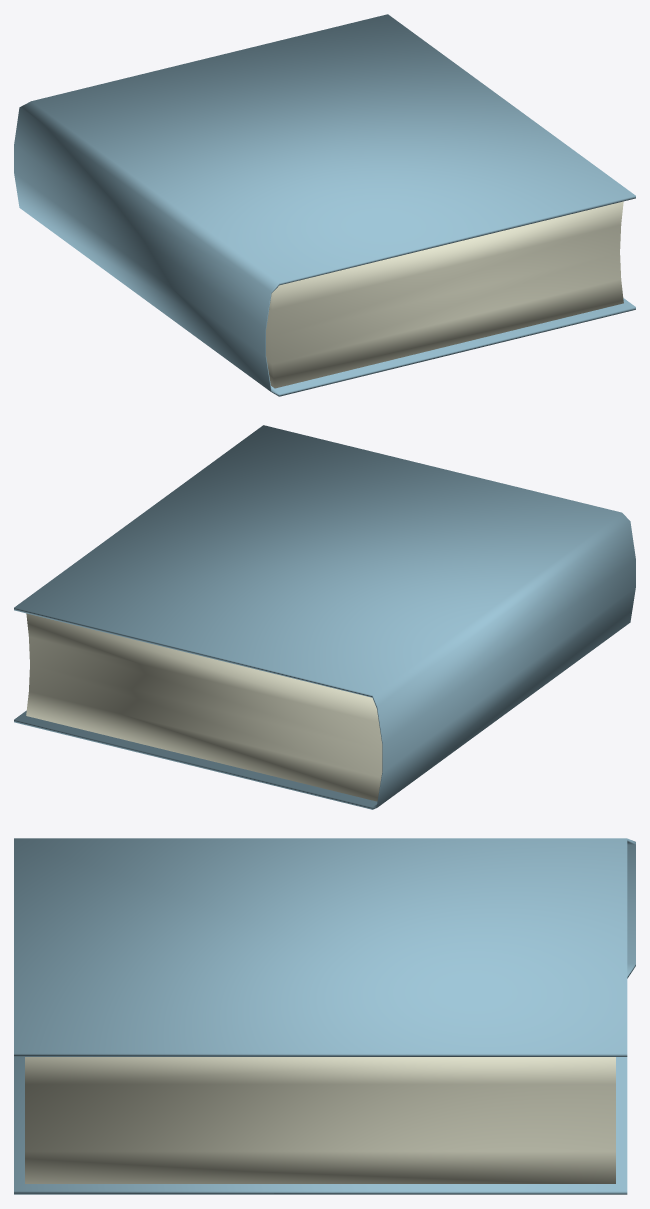
3 views of the same model, one above another, from view 1: azimuth 30°, elevation 25°; view 2: azimuth 150°, elevation 25°; view 3: azimuth 270°, elevation 25° (orthographic). The views are drawn at different scales.
Visible parts, largest first — view 1: Node; view 2: Node; view 3: Node.
Boxes of the visible parts, <box> form: Node: <box>14,14,635,396</box>; Node: <box>14,425,635,809</box>; Node: <box>14,838,635,1194</box>.
Size of the model in its own units: 0.17 by 0.05 by 0.2.
